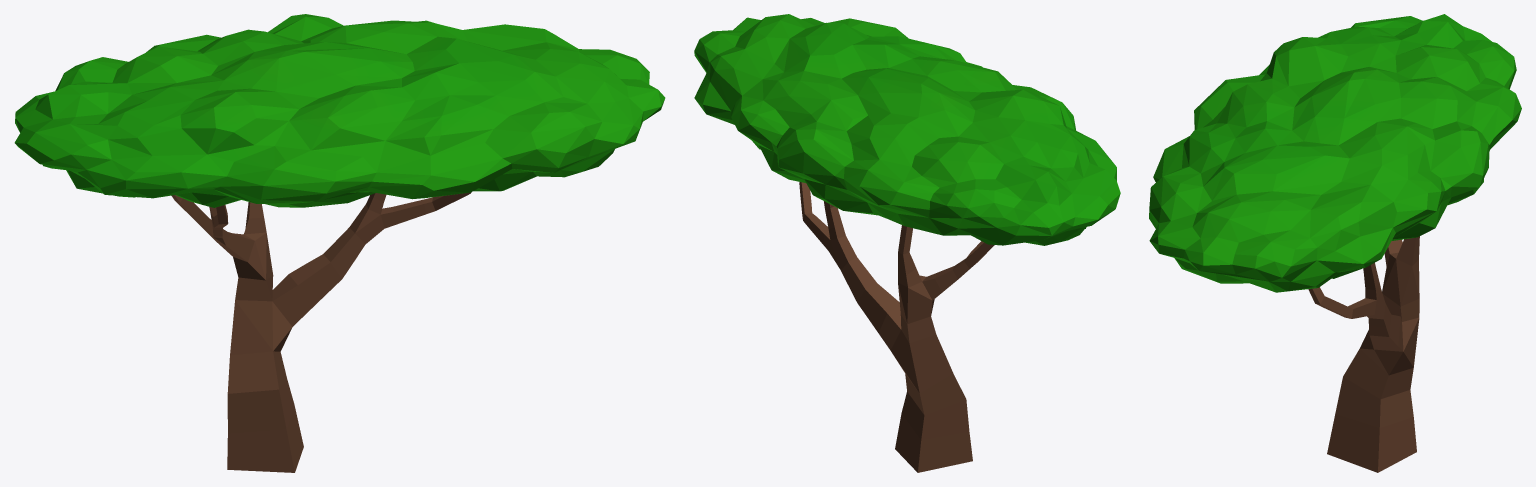
Rendered from trees A_02.fbx.
The picture shows the model from 3 angles, left to right: view 1: azimuth 30°, elevation 25°; view 2: azimuth 150°, elevation 25°; view 3: azimuth 270°, elevation 25°; orthographic projection. The views are drawn at different scales.
Parts seen in each view (by area): view 1: Tree.A_02; view 2: Tree.A_02; view 3: Tree.A_02.
Part boxes in pixels (box(x1,y1,x2,y2)): Tree.A_02: box(14, 14, 665, 472); Tree.A_02: box(694, 14, 1120, 472); Tree.A_02: box(1149, 14, 1521, 472).
Bounding box in the file's own units: 1241 × 898 × 786.
